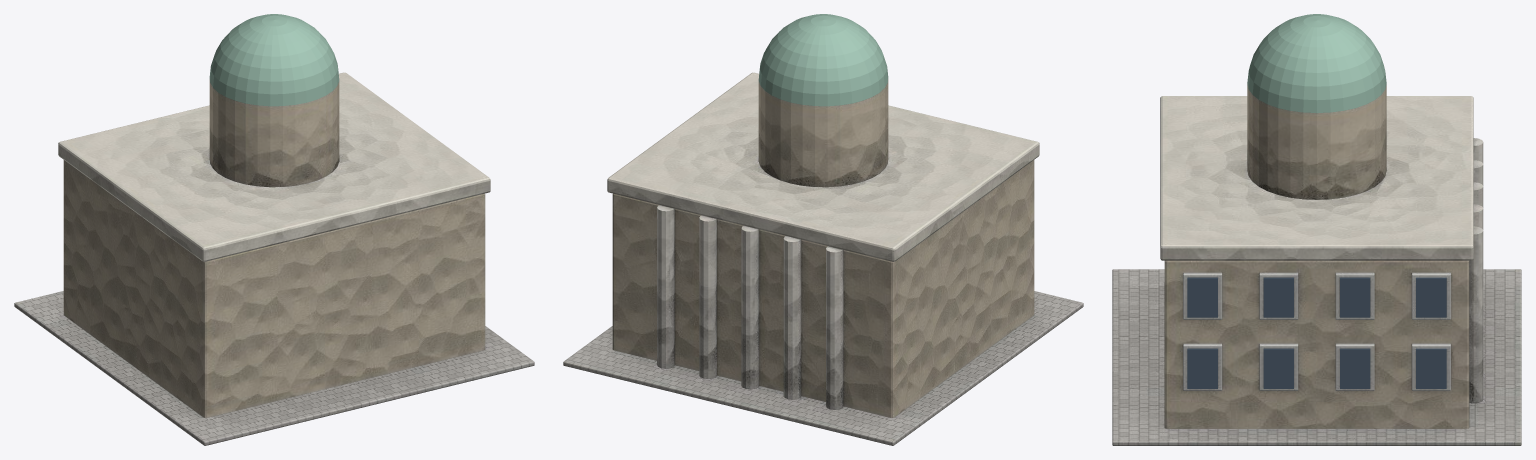
Rendered from universitaet.glb.
The picture shows the model from 3 angles, left to right: view 1: azimuth 30°, elevation 25°; view 2: azimuth 150°, elevation 25°; view 3: azimuth 270°, elevation 25°; orthographic projection. The views are drawn at different scales.
Parts seen in each view (by area): view 1: universitaet, universitaet_details; view 2: universitaet, universitaet_details; view 3: universitaet, universitaet_details.
Part boxes in pixels (x1=…): universitaet: x1=14, y1=72, x2=534, y2=445; universitaet_details: x1=209, y1=14, x2=339, y2=106; universitaet: x1=563, y1=72, x2=1083, y2=445; universitaet_details: x1=758, y1=14, x2=888, y2=106; universitaet: x1=1112, y1=84, x2=1521, y2=445; universitaet_details: x1=1187, y1=14, x2=1446, y2=388.
Bounding box in the file's own units: 0.94 × 0.86 × 0.94.
Materials: 3 (1 with a texture image).
